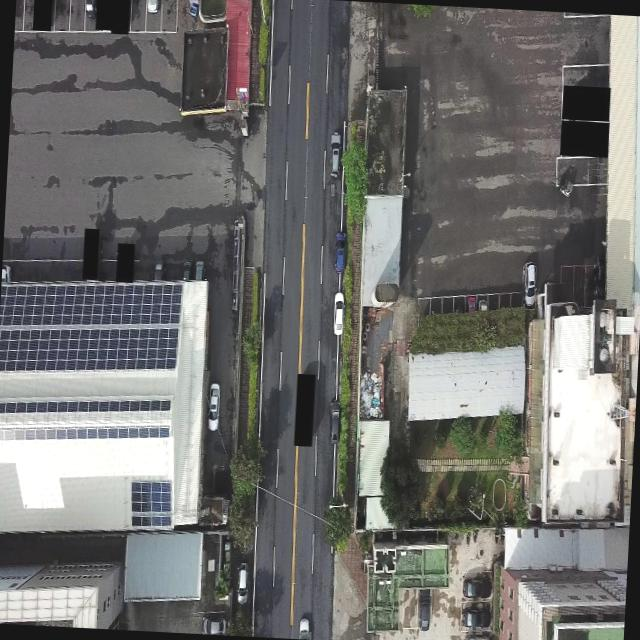car: (331, 289, 348, 342), (520, 260, 538, 308), (326, 396, 344, 444), (332, 228, 348, 274), (207, 382, 221, 432), (328, 130, 342, 179), (201, 610, 228, 634), (236, 562, 250, 605), (298, 615, 312, 639), (463, 633, 491, 640)
